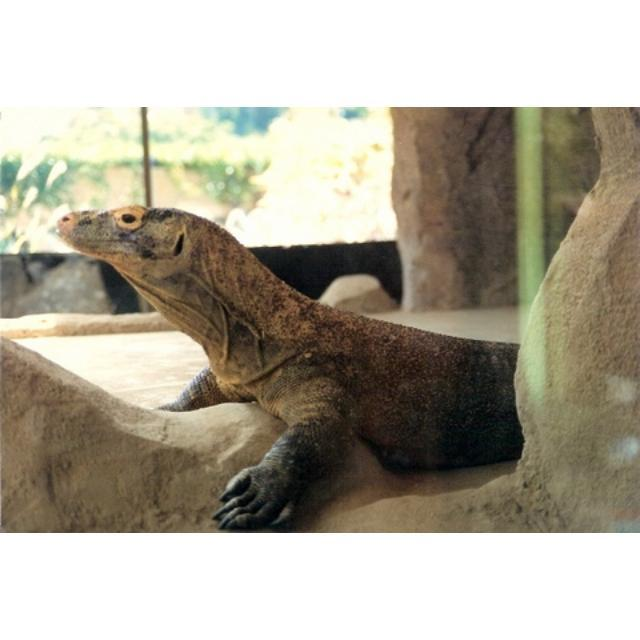KomodoDragon: (0, 149, 562, 531)
